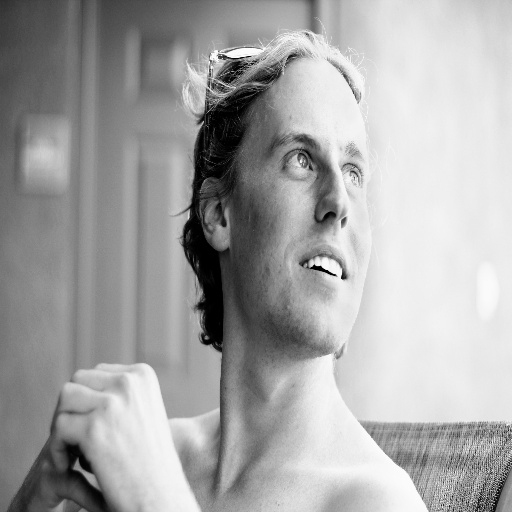hand: (31, 365, 192, 512), (18, 429, 109, 511)
